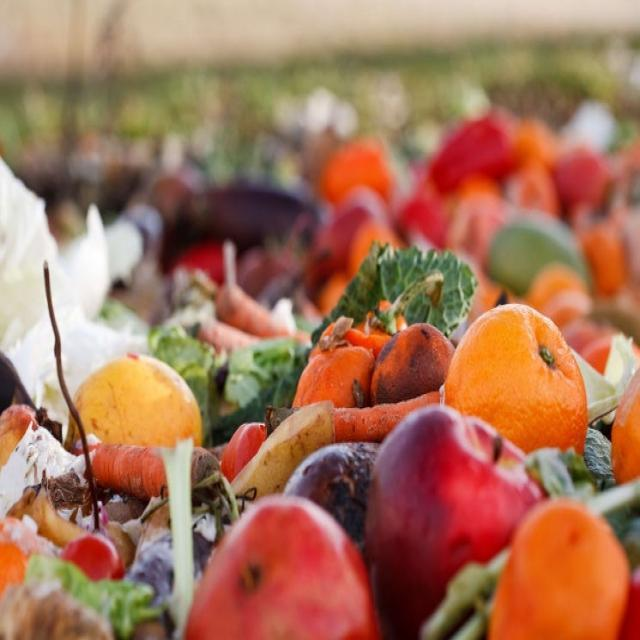Wet: (367, 411, 640, 640), (68, 340, 220, 487), (493, 488, 640, 640), (196, 255, 371, 369), (140, 424, 224, 640)
